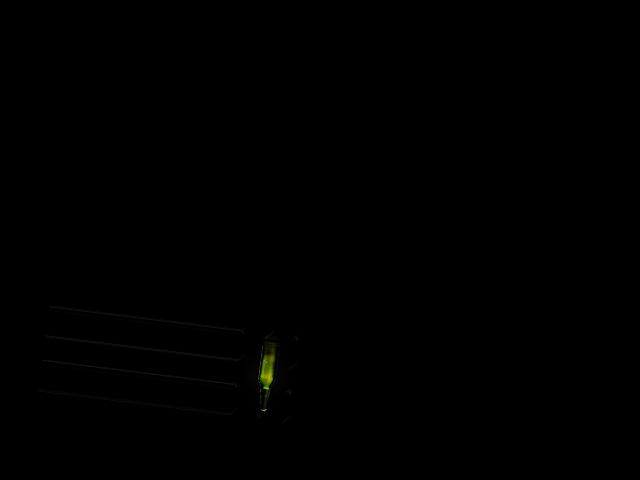beer: (253, 338, 279, 412)
